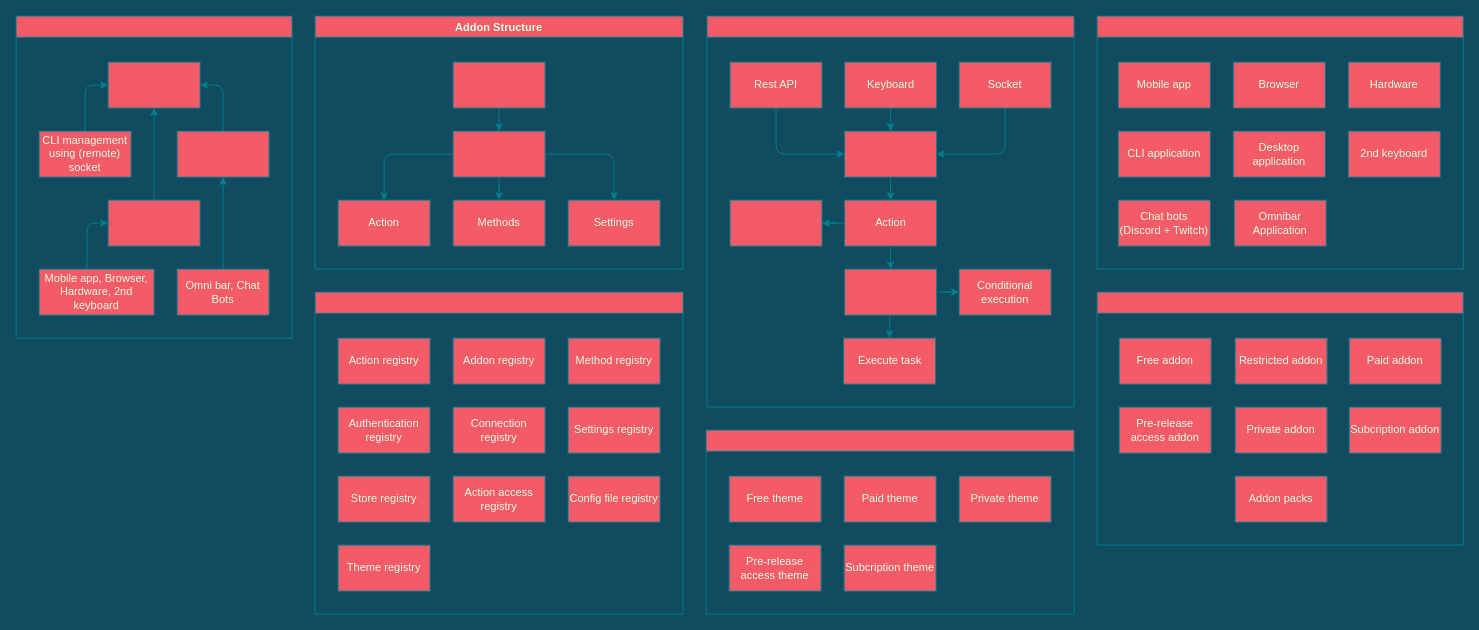
Some shapes in this 1479 by 630 pixel diagram are drawn without their labels. The shapes that lost their labels are listed below. From the top down, each one's box as (x1, y1, x2, y2) in pixels, then its label:
(107, 61, 200, 108): Daemon \w socket, keyboard & rest API
(452, 61, 545, 108): Addon
(176, 130, 269, 177): GUI management using socket
(452, 130, 545, 177): Can register
(844, 130, 937, 177): Action trigger
(1096, 15, 1463, 269): Application Ideas
(15, 15, 292, 338): Application Structure
(107, 199, 200, 246): Stream Deck like management using socket
(729, 199, 822, 246): Actions are sharable with addon DL
(706, 15, 1074, 407): Trigger Action Flow
(844, 268, 937, 315): Method
(1096, 291, 1463, 545): Addon Sale Types
(314, 291, 683, 614): Internal Registries
(705, 429, 1074, 614): Theme Sale Types
